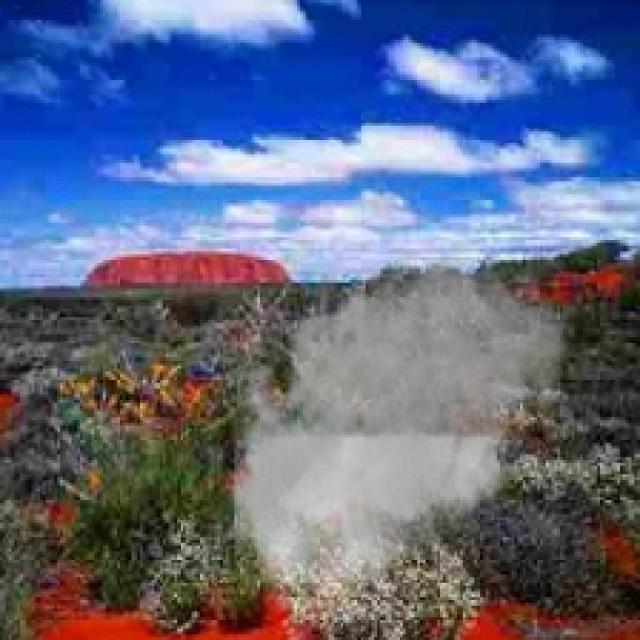smoke: (220, 240, 574, 611)
